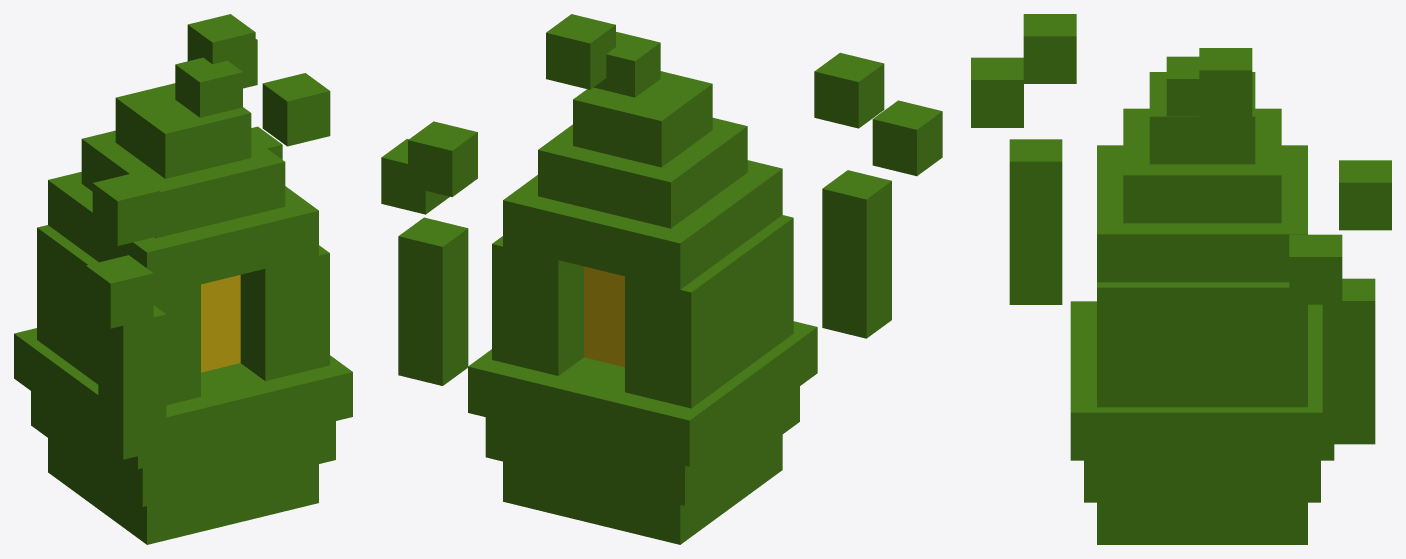
The model's file is AlienFlame.fbx.
3 views of the same model, side by side, from view 1: azimuth 30°, elevation 25°; view 2: azimuth 150°, elevation 25°; view 3: azimuth 270°, elevation 25° (orthographic). The views are drawn at different scales.
Parts seen in each view (by area): view 1: Cube.013, Cube.005, Cube.015, Cube.003, Cube.001, Cube.006, Cube.004, Cube.007, Cube.014, Cube.008, Cube.017, Cube.019 (+4 smaller); view 2: Cube.013, Cube.003, Cube.005, Cube.006, Cube.015, Cube.016, Cube.001, Cube.007, Cube.004, Cube.014, Cube.019, Cube.008 (+5 smaller); view 3: Cube.004, Cube.013, Cube.005, Cube.006, Cube.015, Cube.001, Cube.007, Cube.016, Cube.014, Cube.017, Cube.010, Cube.019 (+3 smaller).
Part boxes in pixels (x1,y1,x2,y2): Cube.013: (14,328,352,469); Cube.005: (48,172,318,295); Cube.015: (31,391,335,506); Cube.003: (37,225,200,405); Cube.001: (48,438,318,544); Cube.006: (81,130,285,238); Cube.004: (240,245,329,380); Cube.007: (98,305,166,459); Cube.014: (115,83,251,178); Cube.008: (85,255,153,328); Cube.017: (262,73,330,146); Cube.019: (92,172,160,245); Cube.013: (468,321,817,466); Cube.003: (625,215,793,408); Cube.005: (503,160,782,289); Cube.006: (538,117,747,228); Cube.015: (485,386,799,505); Cube.016: (398,217,468,385); Cube.001: (503,435,782,544); Cube.007: (822,170,891,338); Cube.004: (492,236,583,375); Cube.014: (573,71,712,167); Cube.019: (814,52,884,128); Cube.008: (872,100,942,176); Cube.004: (1097,282,1307,407); Cube.013: (1070,301,1334,460); Cube.005: (1097,145,1307,282); Cube.006: (1123,108,1281,223); Cube.015: (1084,460,1320,502); Cube.001: (1097,502,1307,544); Cube.007: (1009,139,1062,304); Cube.016: (1322,278,1375,444); Cube.014: (1149,72,1255,164); Cube.017: (1289,234,1342,304); Cube.010: (1199,48,1252,117); Cube.019: (1023,14,1076,83).
Size of the model in its own units: 172 by 195 by 160.
